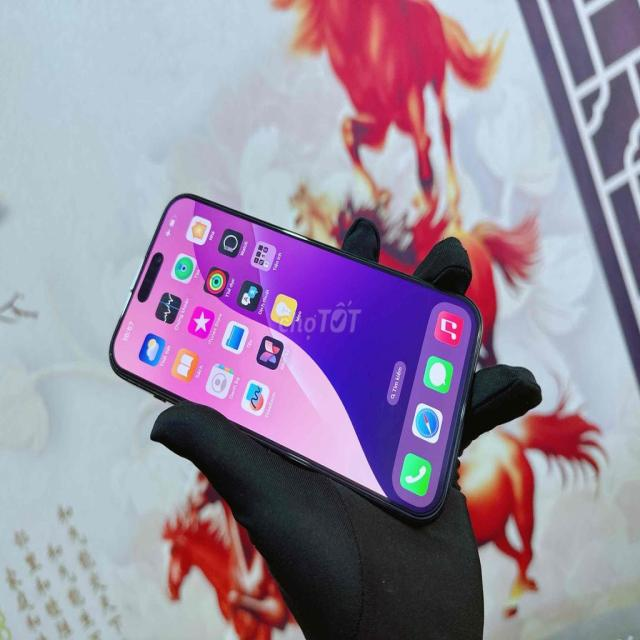gen_15: (107, 191, 485, 527)
